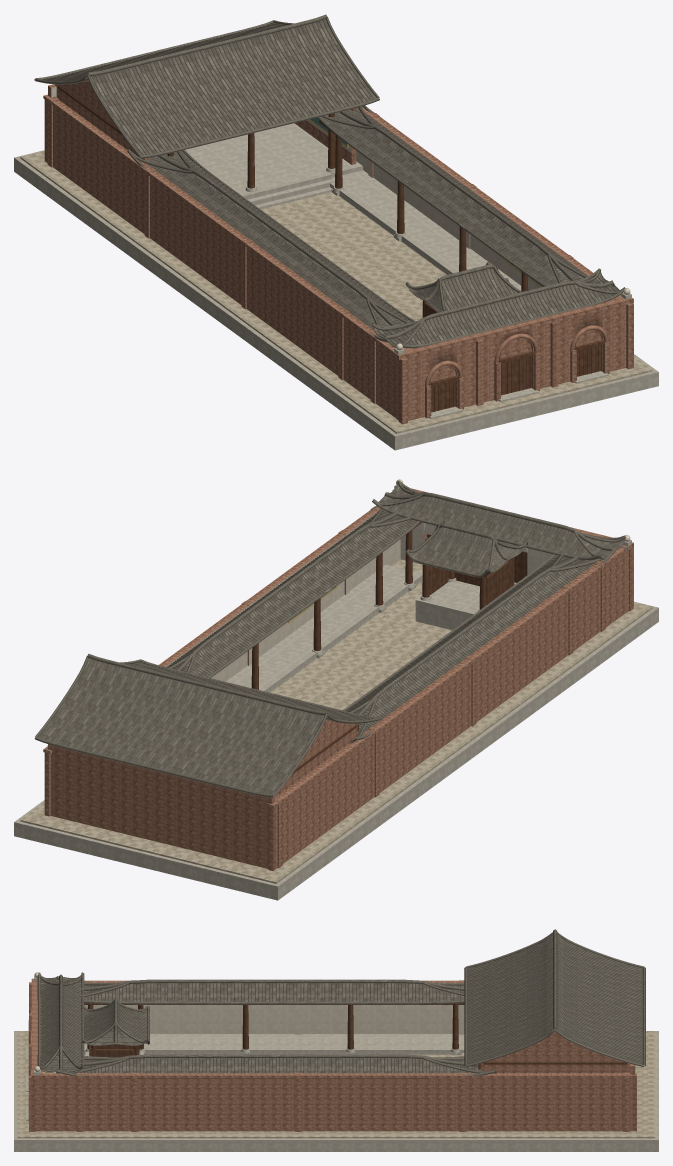
Rendered from roof-a.glb.
3 renders of one model, top to bottom at view 1: azimuth 30°, elevation 25°; view 2: azimuth 150°, elevation 25°; view 3: azimuth 270°, elevation 25°, orthographic. The views are drawn at different scales.
Parts seen in each view (by area): view 1: 02_Enclosure, 01_Base, 08_HallRoofCandidate, 07_Entrance, 05_EastGallery, 03_MainHall, 04_WestGallery, 06_Stage; view 2: 02_Enclosure, 01_Base, 08_HallRoofCandidate, 05_EastGallery, 07_Entrance, 04_WestGallery, 06_Stage, 03_MainHall; view 3: 02_Enclosure, 08_HallRoofCandidate, 04_WestGallery, 01_Base, 05_EastGallery, 07_Entrance, 06_Stage, 03_MainHall.
Part boxes in pixels (x1,y1,x2,y2): 02_Enclosure: (43, 84, 621, 417); 01_Base: (14, 150, 658, 450); 08_HallRoofCandidate: (34, 14, 379, 161); 07_Entrance: (372, 268, 633, 424); 05_EastGallery: (317, 105, 615, 291); 03_MainHall: (58, 89, 362, 209); 04_WestGallery: (127, 149, 415, 343); 06_Stage: (405, 262, 526, 317); 02_Enclosure: (43, 506, 625, 870); 01_Base: (14, 559, 658, 900); 08_HallRoofCandidate: (34, 653, 379, 797); 05_EastGallery: (167, 492, 422, 692); 07_Entrance: (372, 479, 633, 613); 04_WestGallery: (343, 547, 616, 743); 06_Stage: (405, 521, 527, 630); 03_MainHall: (275, 724, 358, 797); 02_Enclosure: (42, 980, 636, 1131); 08_HallRoofCandidate: (464, 929, 645, 1073); 04_WestGallery: (56, 976, 464, 1055); 01_Base: (14, 1031, 658, 1151); 05_EastGallery: (56, 1054, 496, 1078); 07_Entrance: (26, 972, 84, 1131); 06_Stage: (81, 999, 149, 1057); 03_MainHall: (462, 1053, 627, 1073).
Bounding box in the file's own units: 11.8 × 6.02 × 29.5.
Materials: 13 (10 with a texture image).
